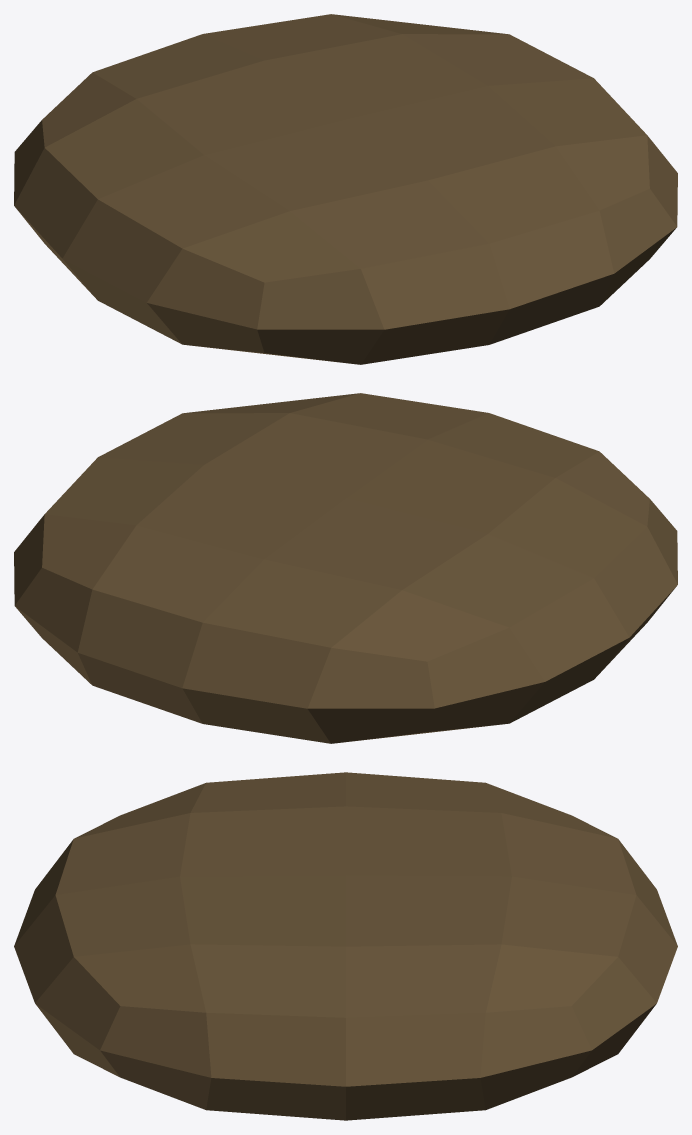
Rendered from burgerpatty-cooked-9eec5a7e60.glb.
3 renders of one model, top to bottom at view 1: azimuth 30°, elevation 25°; view 2: azimuth 150°, elevation 25°; view 3: azimuth 270°, elevation 25°, orthographic.
Visible parts, largest first — view 1: BurgerPatty_Cooked.obj; view 2: BurgerPatty_Cooked.obj; view 3: BurgerPatty_Cooked.obj.
Part boxes in pixels (bbox=[...]): BurgerPatty_Cooked.obj: bbox=[14, 14, 677, 364]; BurgerPatty_Cooked.obj: bbox=[14, 393, 677, 743]; BurgerPatty_Cooked.obj: bbox=[14, 772, 677, 1120].
Bounding box in the file's own units: 1.43 × 0.3364 × 1.43.
